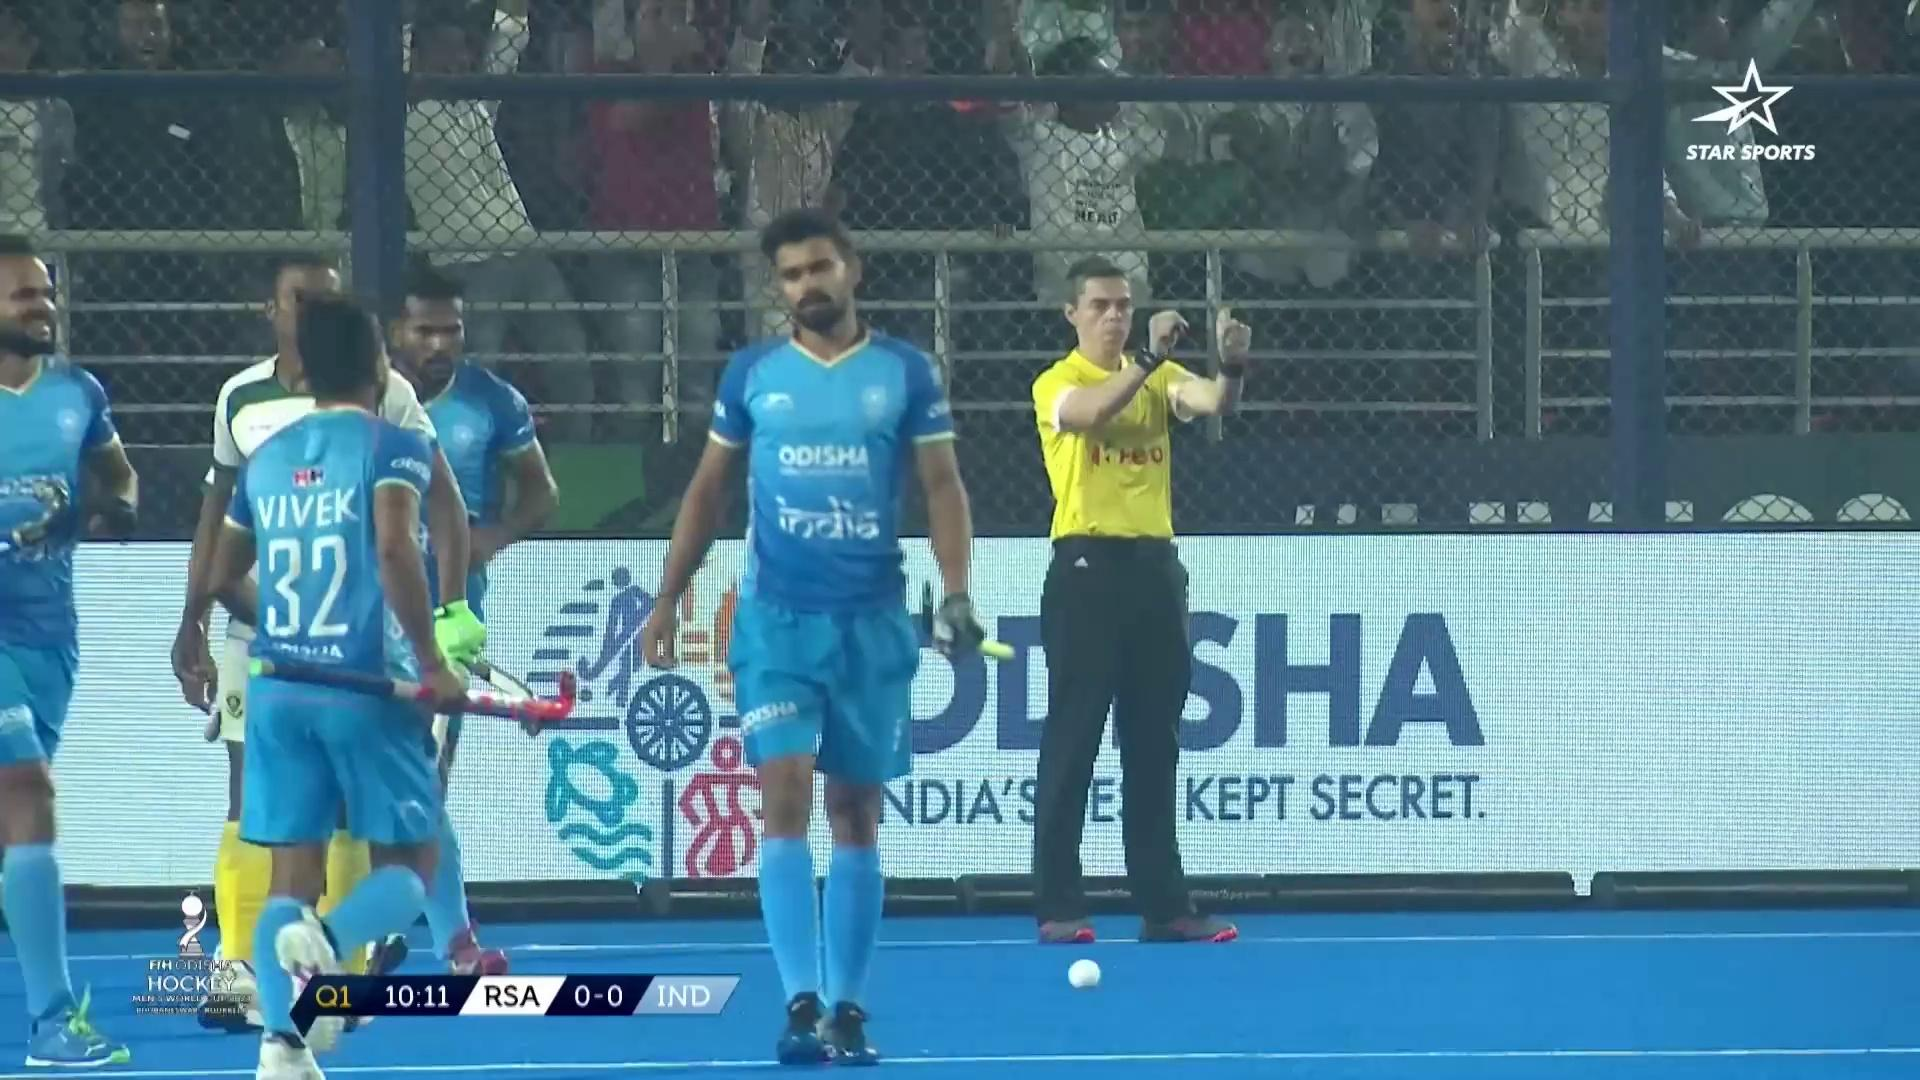ball: (1062, 948, 1120, 1005)
